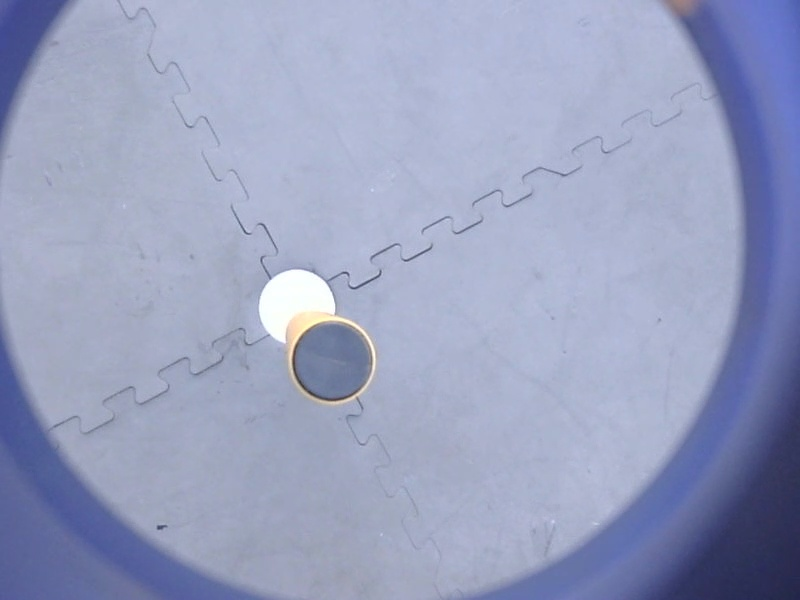tip: (282, 312, 382, 411)
